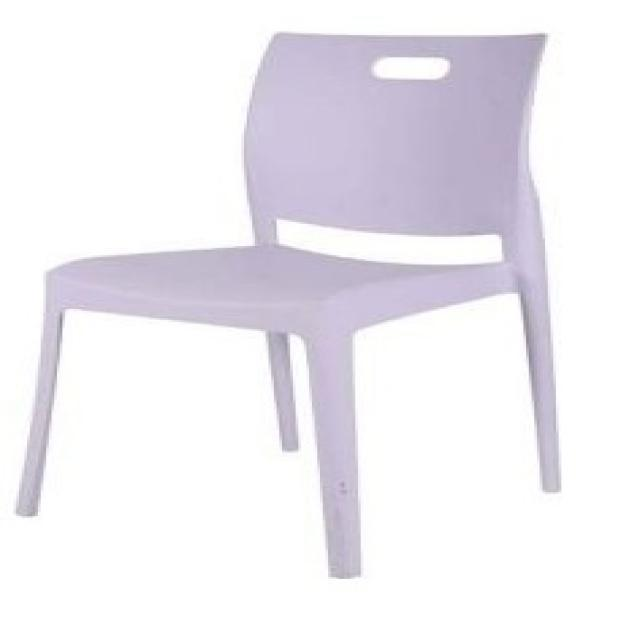chair: (5, 26, 594, 583)
